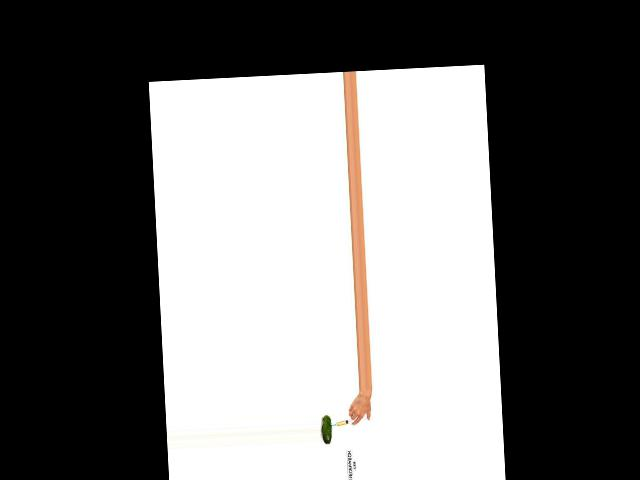cucumber: (321, 414, 332, 444)
